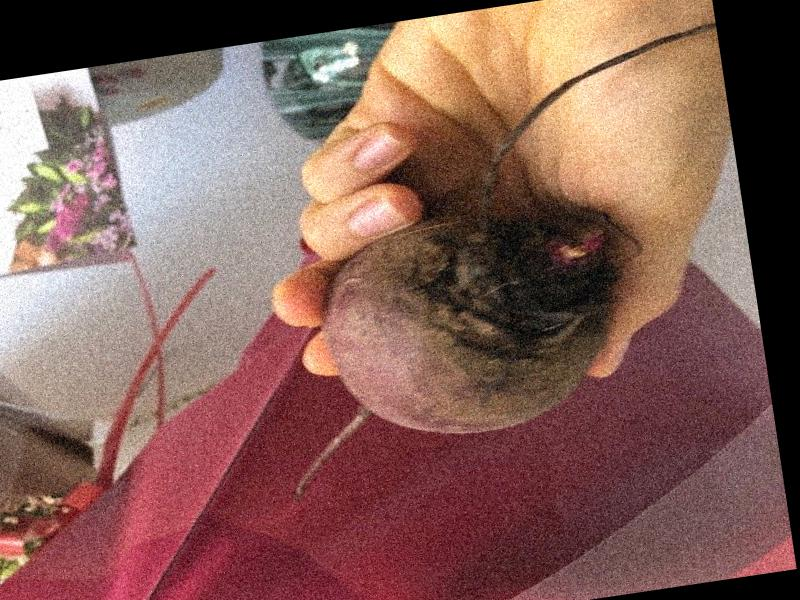Beet: (231, 22, 770, 501)
